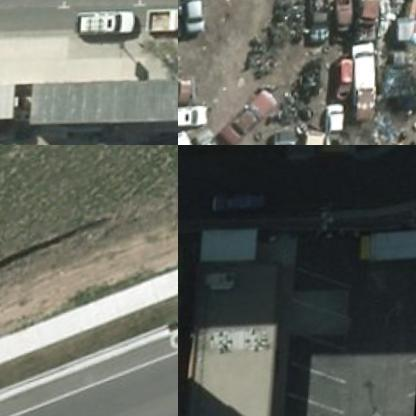car: (213, 80, 283, 144), (204, 184, 272, 221), (78, 10, 137, 46), (348, 49, 376, 117), (143, 8, 177, 49)
